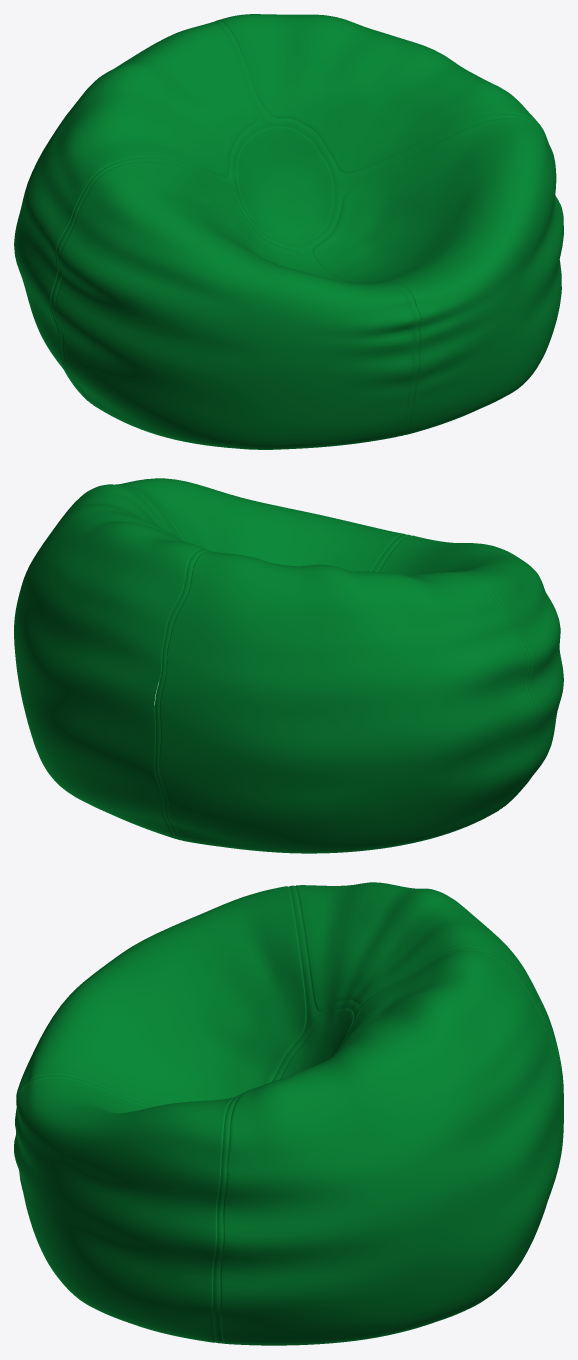
The model's file is beanbag1.fbx.
The picture shows the model from 3 angles, top to bottom: view 1: azimuth 30°, elevation 25°; view 2: azimuth 150°, elevation 25°; view 3: azimuth 270°, elevation 25°; orthographic projection. The views are drawn at different scales.
Parts seen in each view (by area): view 1: beanbag2; view 2: beanbag2; view 3: beanbag2.
Part boxes in pixels (<box>): beanbag2: <box>14,14,563,449</box>; beanbag2: <box>14,478,563,853</box>; beanbag2: <box>14,882,563,1345</box>.
Size of the model in its own units: 124 by 65.2 by 111.
